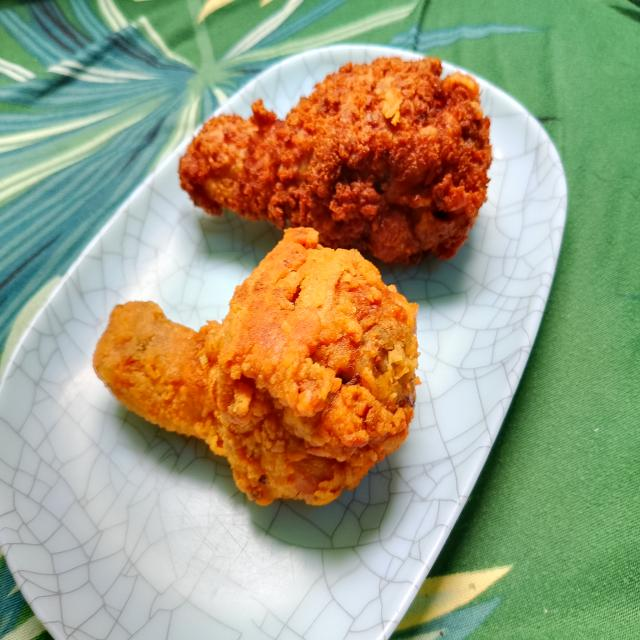Chicken -Fried Chicken-: (88, 214, 432, 522), (175, 45, 498, 277)
